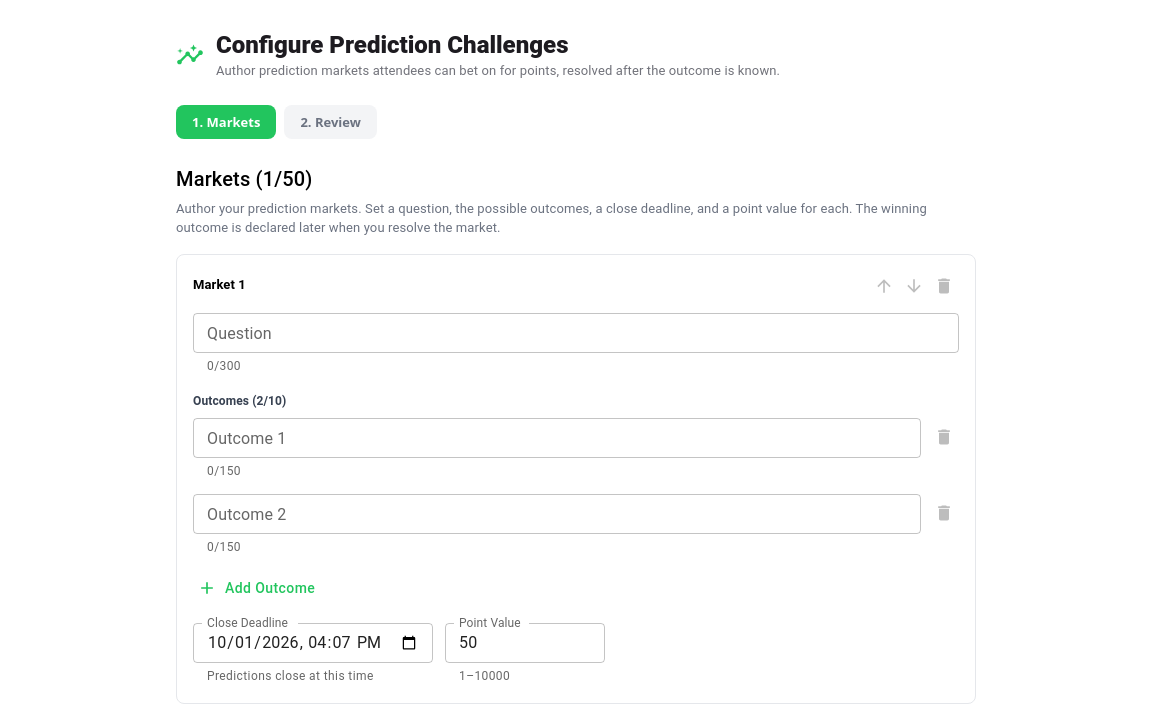
Test: PredictionConfig › shows question, outcomes, close-deadline, and point-value controls per market
Click the text "1. Markets": (226, 122) [176,104,276,138]
(page scrolled)
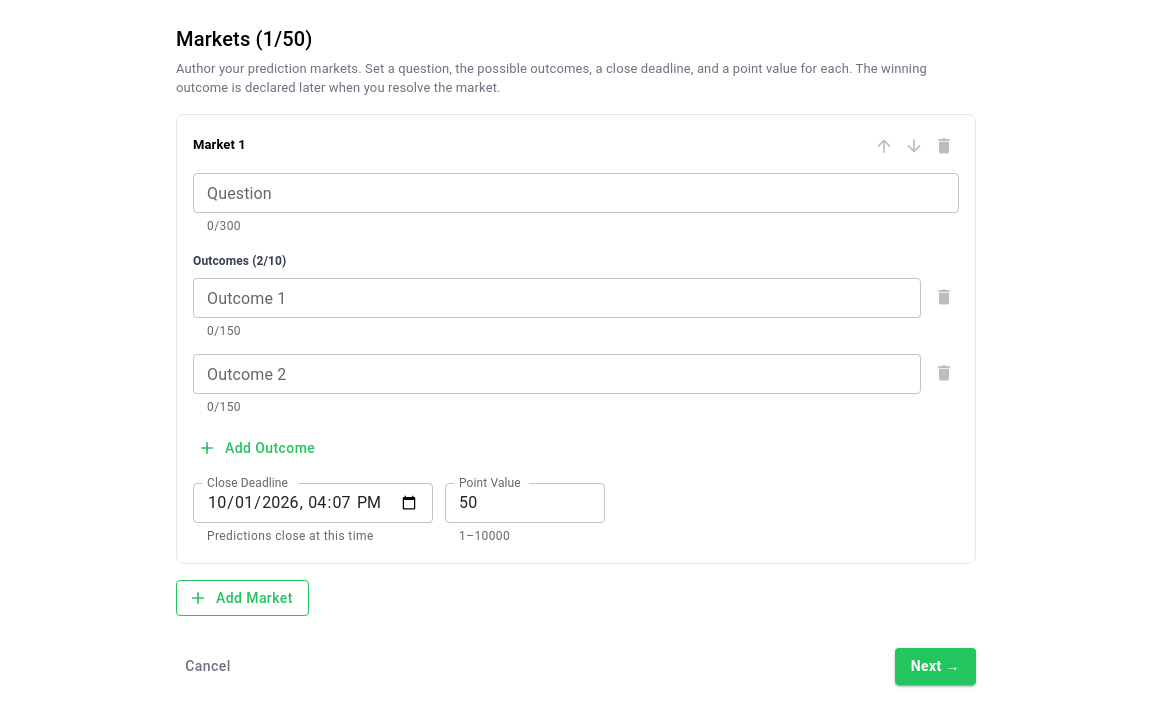
Expected: the field labelled "Question" is shown, [193,172,959,212]
Expected: the field labelled "Outcome 1" is shown, [193,278,921,318]
Click the button "Add Market": (242, 598) [176,580,309,616]
(page scrolled)
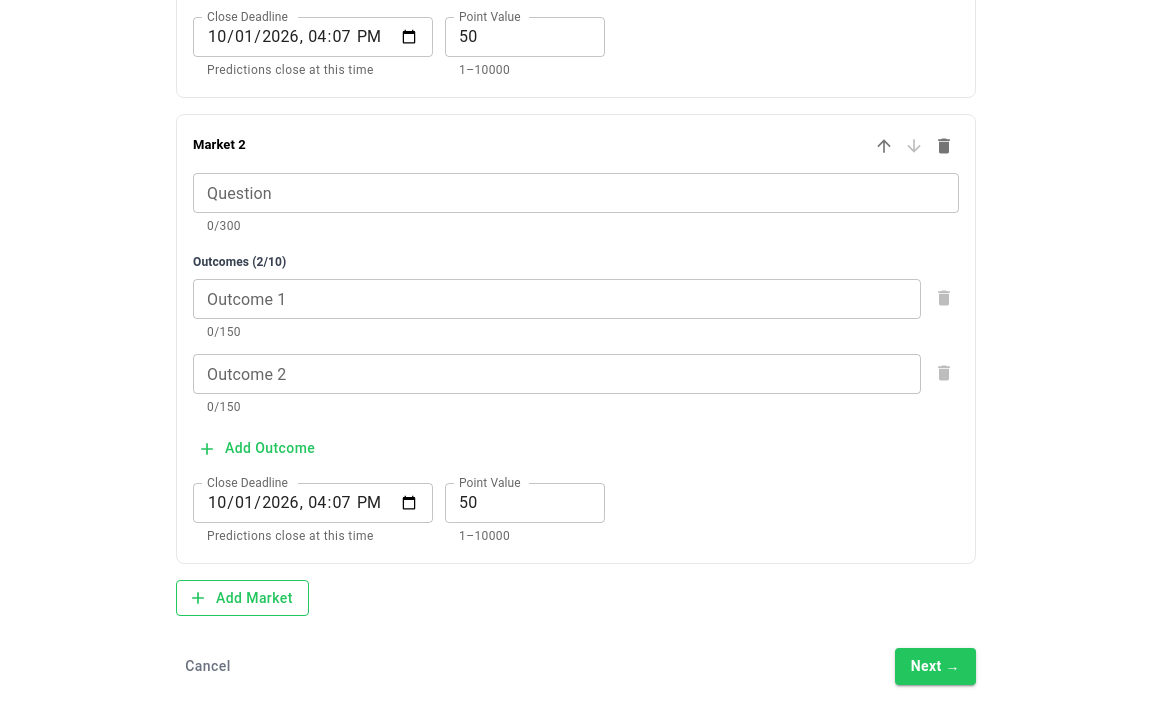
Expected: the field labelled "Question" is shown, [193,173,959,213]
Expected: the element with test id "market-editor-1" is shown, [176,114,976,564]
Expected: the field labelled "Outcome 1" is shown, [193,278,921,318]
